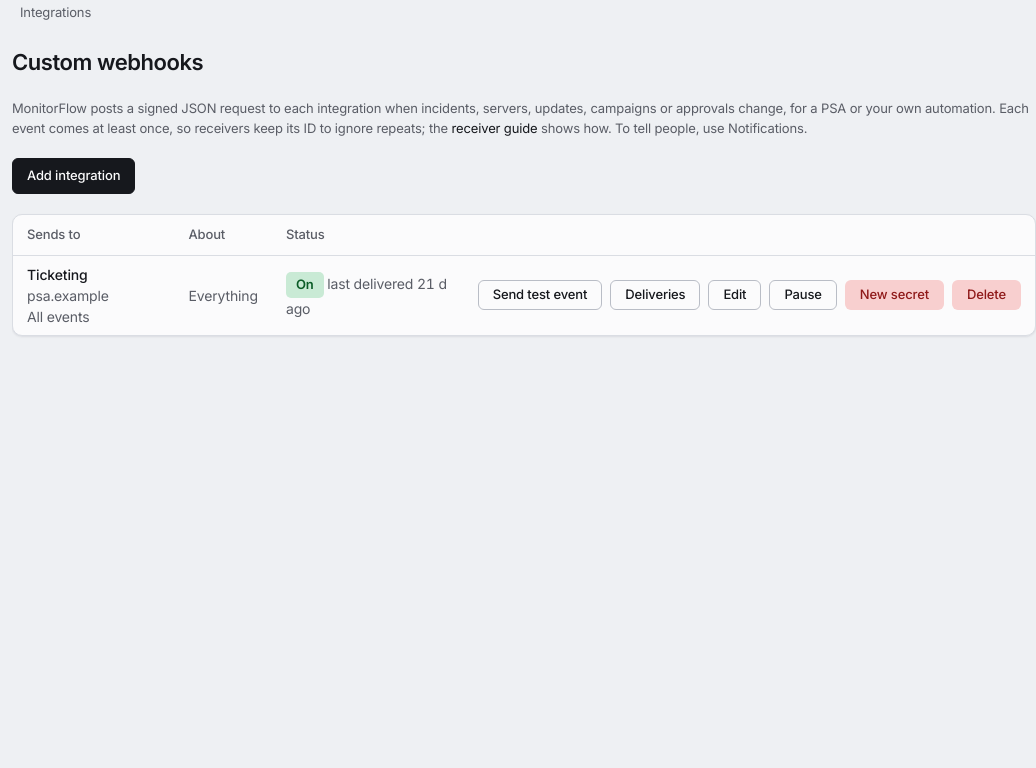
IntegrationsPage › shows deliveries and sends one again
The image size is (1036, 768).
Click the button "Deliveries": [655, 295] box x1=610 y1=280 x2=700 y2=310
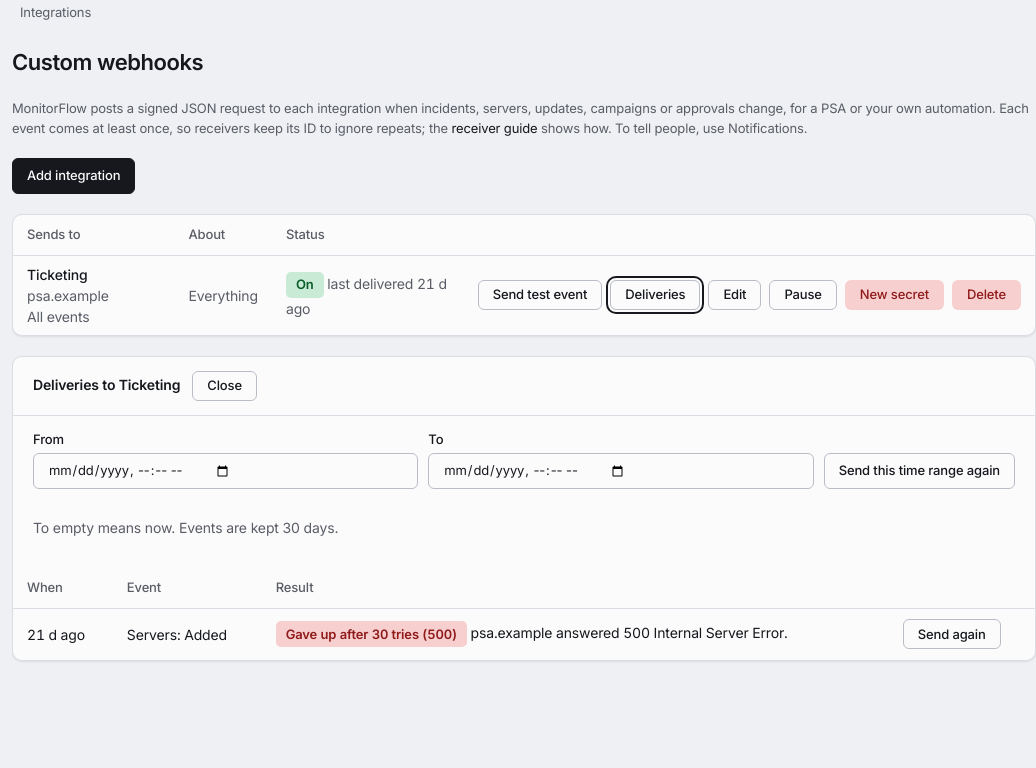
Check: the text "Gave up after 30 tries (500)" is shown, box x1=276 y1=621 x2=467 y2=647
Check: the text "Servers: Added" is shown, box x1=113 y1=608 x2=262 y2=660
Click the button with aria-label "Send Servers: Added again": [952, 634] box x1=903 y1=619 x2=1001 y2=649
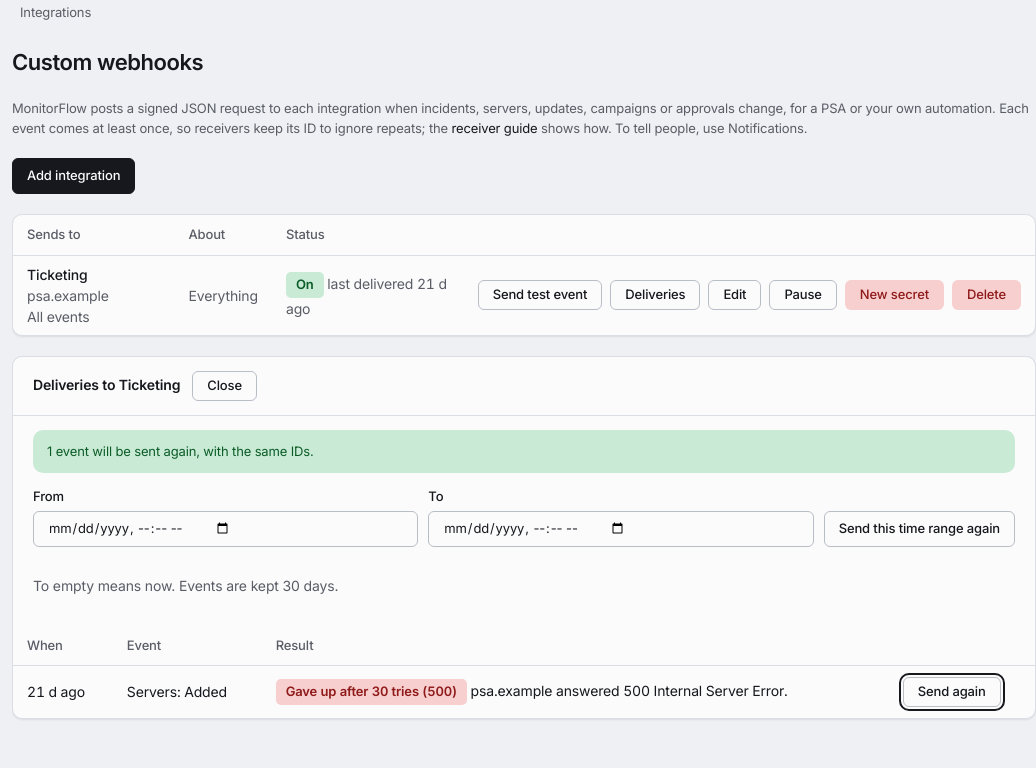
Check: the text "1 event will be sent again, with the same IDs." is shown, box x1=47 y1=442 x2=314 y2=461
